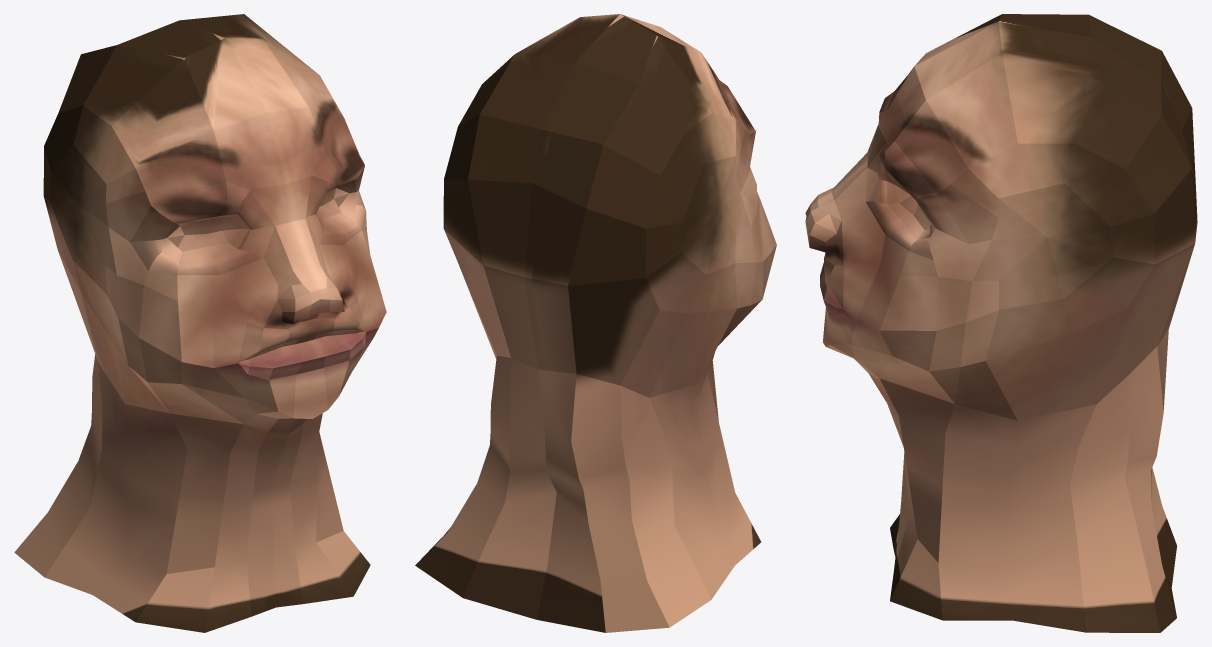
The model's file is ossan.fbx.
The picture shows the model from 3 angles, left to right: view 1: azimuth 30°, elevation 25°; view 2: azimuth 150°, elevation 25°; view 3: azimuth 270°, elevation 25°; orthographic projection. The views are drawn at different scales.
Visible parts, largest first — view 1: polySurface3; view 2: polySurface3; view 3: polySurface3.
Boxes of the visible parts, left/top/right/bottom form: polySurface3: left=14, top=14, right=386, bottom=632; polySurface3: left=415, top=14, right=776, bottom=632; polySurface3: left=805, top=14, right=1197, bottom=632.
Bounding box in the file's own units: 1.7 × 3.32 × 2.08.
